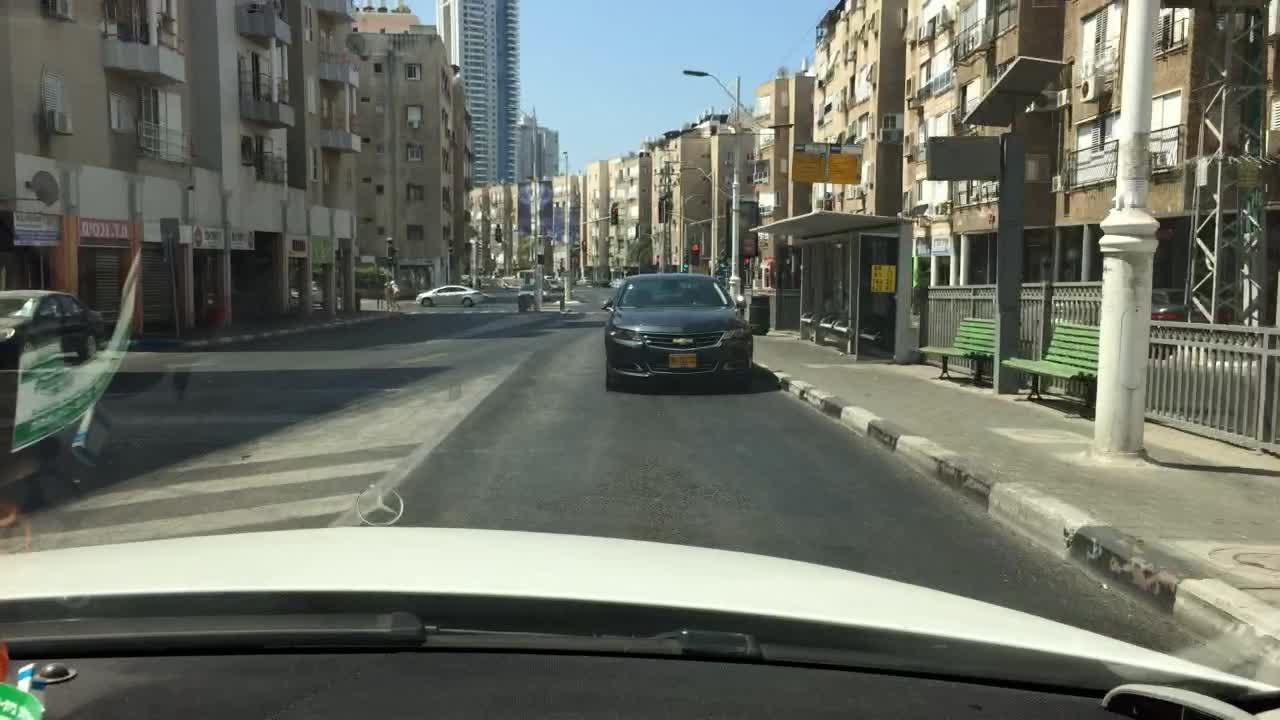Mercedes: (346, 467, 421, 534)
chevrolet: (672, 332, 697, 352)
